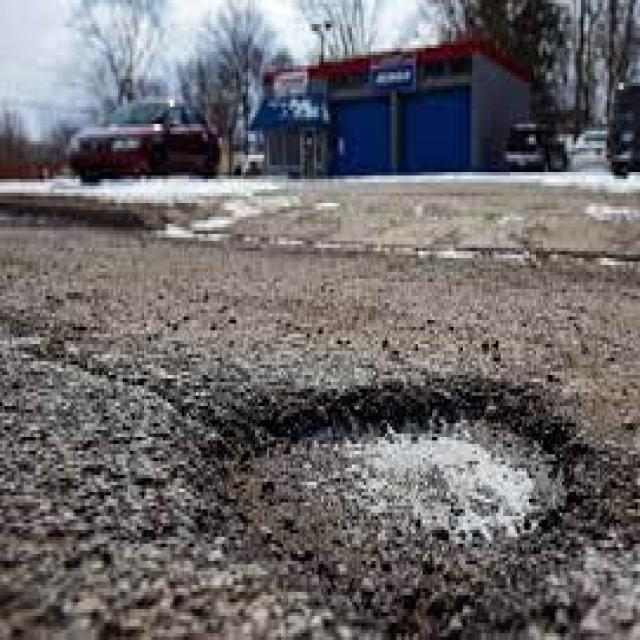Pothole: (210, 389, 586, 609)
